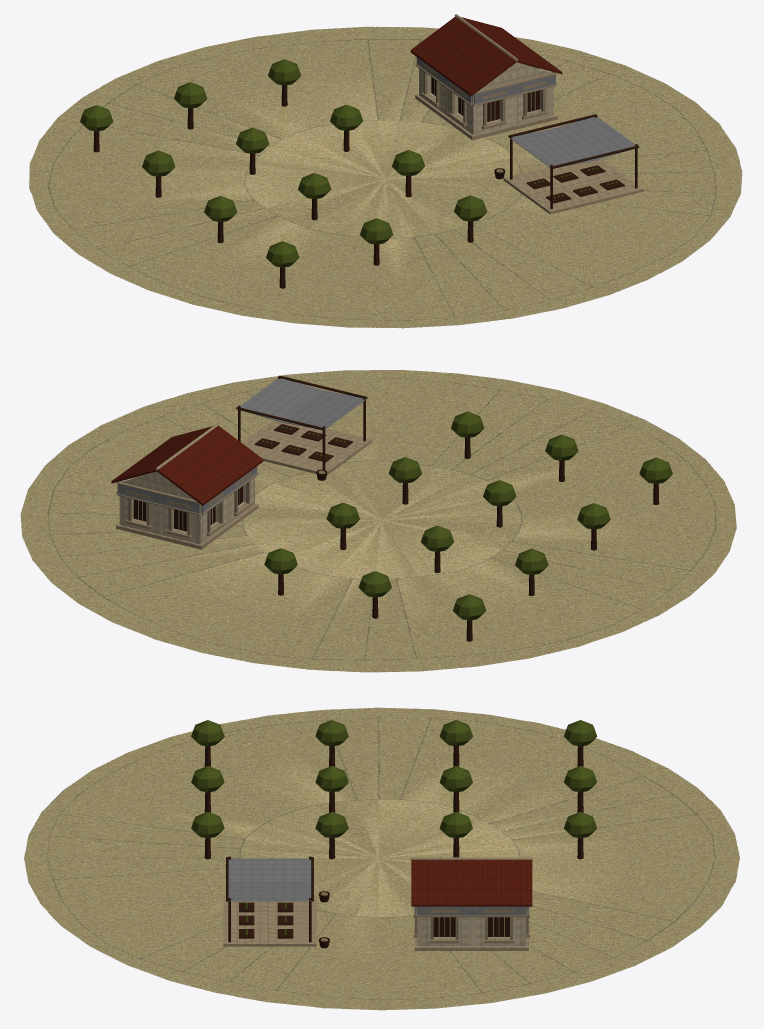
File: plantation-bronze.glb
3 views of the same model, one above another, from view 1: azimuth 30°, elevation 25°; view 2: azimuth 150°, elevation 25°; view 3: azimuth 270°, elevation 25° (orthographic).
Visible parts, largest first — view 1: LOD0; view 2: LOD0; view 3: LOD0.
Part boxes in pixels (<box>): LOD0: <box>29,14,742,328</box>; LOD0: <box>20,370,736,672</box>; LOD0: <box>24,707,739,1010</box>.
Size of what is drawn, in the model's own units: 4.74 by 0.5157 by 4.74.
3 materials, 3 textured.
